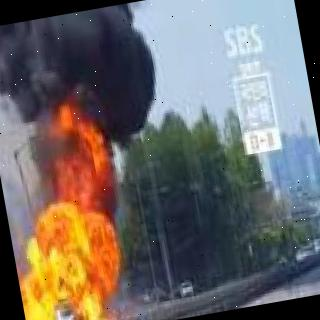fire: (36, 201, 111, 320), (16, 260, 56, 320)
